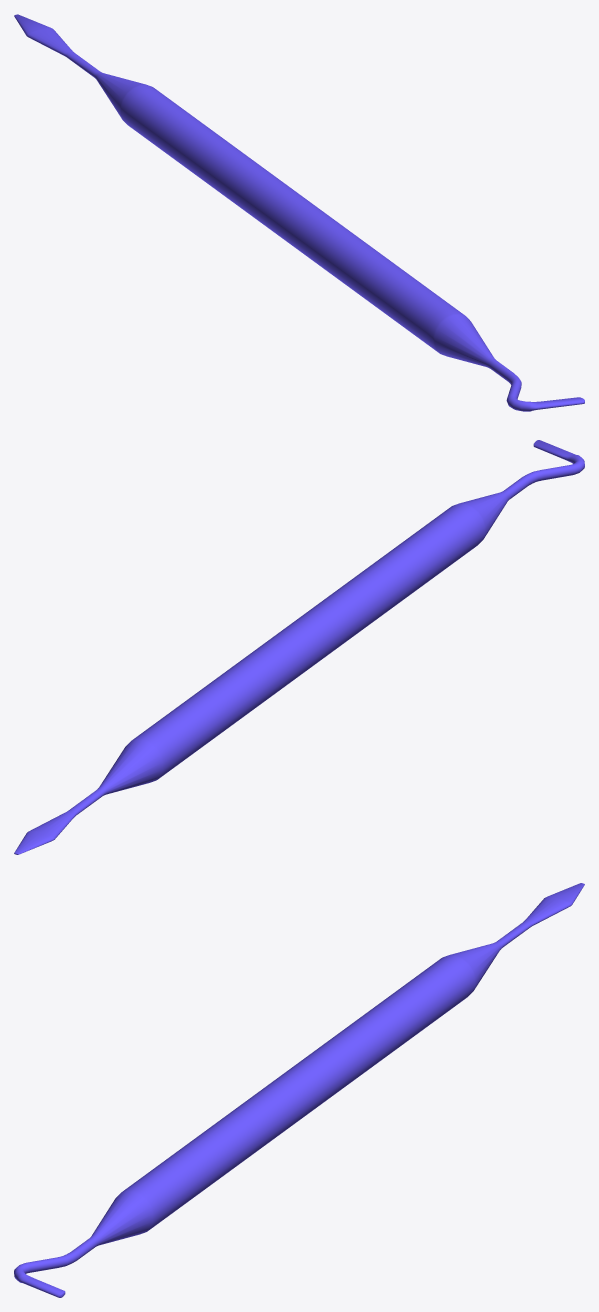
File: Periotome.fbx
3 views of the same model, one above another, from view 1: azimuth 30°, elevation 25°; view 2: azimuth 150°, elevation 25°; view 3: azimuth 330°, elevation 25° (orthographic). The views are drawn at different scales.
Parts seen in each view (by area): view 1: periotome; view 2: periotome; view 3: periotome.
Boxes of the visible parts, x1,y1,x2,y2 form: periotome: (14, 14, 584, 411); periotome: (14, 440, 584, 854); periotome: (14, 883, 584, 1297).
Bounding box in the file's own units: 0.0064 × 0.00424 × 0.0999.
